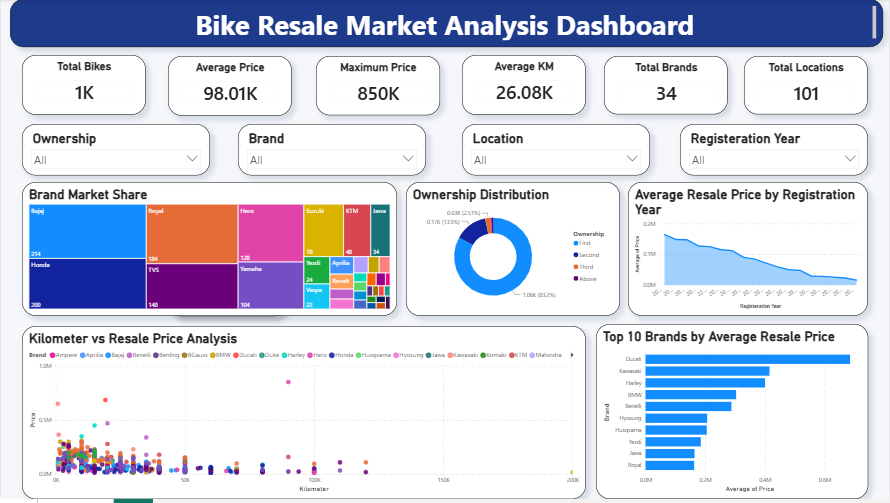

Layout of this report page (visuals, bound fields, positions):
{"tool":"powerbi","page":{"name":"Page 1","canvas":[1920,1080],"ordinal":0},"visuals":[{"type":"cardVisual","title":"Maximum Price","fields":{"Data":["Bikes.Max Price"]},"box":[680,122.5,267.5,127.5],"z":0},{"type":"cardVisual","fields":{"Data":["Bikes.Total Brands"]},"box":[360.3,559.4,257,126],"z":1000},{"type":"textbox","box":[19.4,0,1885.7,103.7],"z":2000},{"type":"treemap","title":"Brand Market Share","fields":{"Group":["Bikes.Brand"],"Values":["CountNonNull(Bikes.Brand)"]},"box":[45.4,395.3,810,289.4],"z":3000},{"type":"donutChart","title":"Ownership Distribution","fields":{"Category":["Bikes.Ownership"],"Y":["CountNonNull(Bikes.Ownership)"]},"box":[874.8,395.3,462.2,289.4],"z":4000},{"type":"areaChart","title":"Average Resale Price by Registration Year","fields":{"Category":["Bikes.Registeration Year"],"Y":["Avg(Bikes.Price)"]},"box":[1354.3,395.3,518.4,289.4],"z":5000},{"type":"scatterChart","title":"Kilometer vs Resale Price Analysis","fields":{"X":["Bikes.Kilometer"],"Y":["Bikes.Price"],"Series":["Bikes.Brand"]},"box":[45.4,706.3,1218.2,373.7],"z":6000},{"type":"clusteredBarChart","title":"Top 10 Brands by Average Resale Price","fields":{"Category":["Bikes.Brand"],"Y":["Avg(Bikes.Price)"]},"box":[1285.2,702,587.5,378],"z":7000},{"type":"slicer","fields":{"Values":["Bikes.Ownership"]},"box":[45.4,269.6,405.7,110.9],"z":10000},{"type":"cardVisual","title":"Total Locations","fields":{"Data":["Bikes.Total Locations"]},"box":[1605,123.5,267.1,126],"z":12000},{"type":"cardVisual","title":"Total Brands","fields":{"Data":["Bikes.Total Brands"]},"box":[1302.7,123.5,267.1,126],"z":13000},{"type":"cardVisual","title":"Average KM","fields":{"Data":["Bikes.Avg KM"]},"box":[995.3,120.9,267.1,128.5],"z":14000},{"type":"cardVisual","title":"Average Price","fields":{"Data":["Bikes.Avg Price"]},"box":[360.3,123.5,267.1,128.5],"z":15000},{"type":"cardVisual","title":"Total Bikes","fields":{"Data":["Bikes.Total Listings"]},"box":[45.4,120.9,267.1,128.5],"z":16000},{"type":"slicer","fields":{"Values":["Bikes.Registeration Year"]},"box":[1466.5,269.6,405.7,110.9],"z":16001},{"type":"slicer","fields":{"Values":["Bikes.Location"]},"box":[995.3,269.6,405.7,110.9],"z":16002},{"type":"slicer","fields":{"Values":["Bikes.Brand"]},"box":[511.5,269.6,405.7,110.9],"z":16003}]}

Visuals, with their boxes in screenshot pixels (x1, y1, x2, y2), scaled from the page's 1920x1080 canvas onto the 890x503 screenshot:
"Maximum Price" cardVisual: [left=315, top=57, right=439, bottom=116]
cardVisual - Bikes.Total Brands: [left=167, top=261, right=286, bottom=319]
textbox: [left=9, top=0, right=883, bottom=48]
"Brand Market Share" treemap: [left=21, top=184, right=397, bottom=319]
"Ownership Distribution" donutChart: [left=406, top=184, right=620, bottom=319]
"Average Resale Price by Registration Year" areaChart: [left=628, top=184, right=868, bottom=319]
"Kilometer vs Resale Price Analysis" scatterChart: [left=21, top=329, right=586, bottom=502]
"Top 10 Brands by Average Resale Price" clusteredBarChart: [left=596, top=327, right=868, bottom=502]
slicer - Bikes.Ownership: [left=21, top=126, right=209, bottom=177]
"Total Locations" cardVisual: [left=744, top=58, right=868, bottom=116]
"Total Brands" cardVisual: [left=604, top=58, right=728, bottom=116]
"Average KM" cardVisual: [left=461, top=56, right=585, bottom=116]
"Average Price" cardVisual: [left=167, top=58, right=291, bottom=117]
"Total Bikes" cardVisual: [left=21, top=56, right=145, bottom=116]
slicer - Bikes.Registeration Year: [left=680, top=126, right=868, bottom=177]
slicer - Bikes.Location: [left=461, top=126, right=649, bottom=177]
slicer - Bikes.Brand: [left=237, top=126, right=425, bottom=177]
